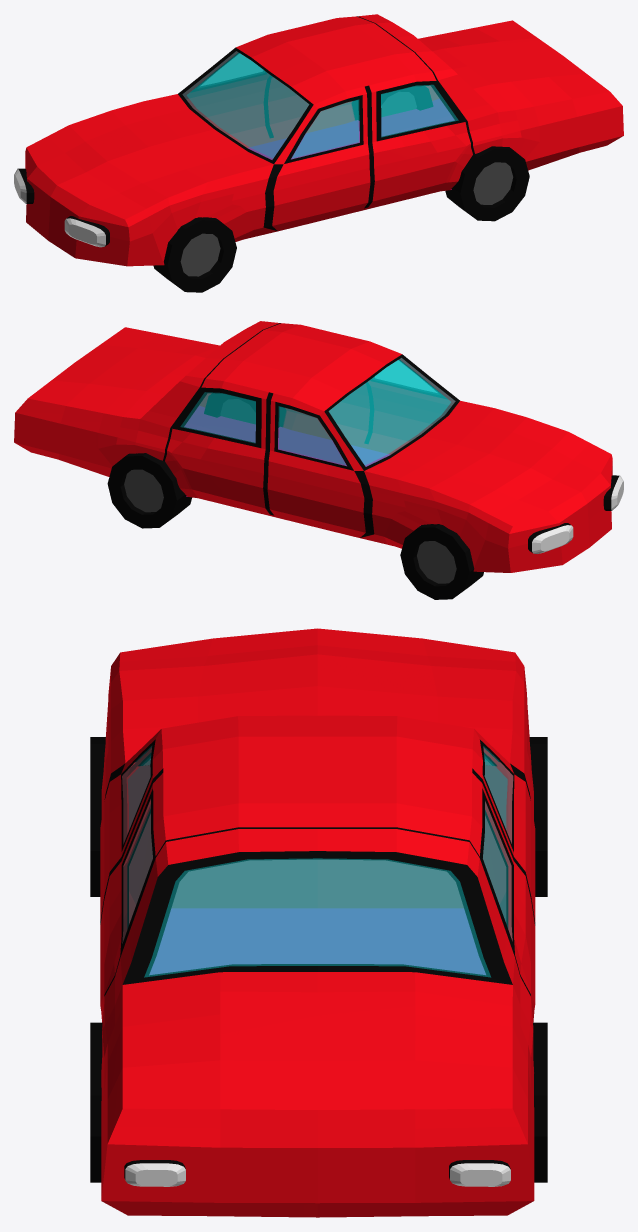
Rendered from Car.fbx.
3 renders of one model, top to bottom at view 1: azimuth 30°, elevation 25°; view 2: azimuth 150°, elevation 25°; view 3: azimuth 270°, elevation 25°, orthographic. The views are drawn at different scales.
Parts seen in each view (by area): view 1: Car.001; view 2: Car.001; view 3: Car.001.
Part boxes in pixels (x1,y1,x2,y2): Car.001: (14, 14, 623, 292); Car.001: (14, 321, 623, 599); Car.001: (90, 628, 547, 1217).
Size of the model in its own units: 330 by 91.97 by 123.
